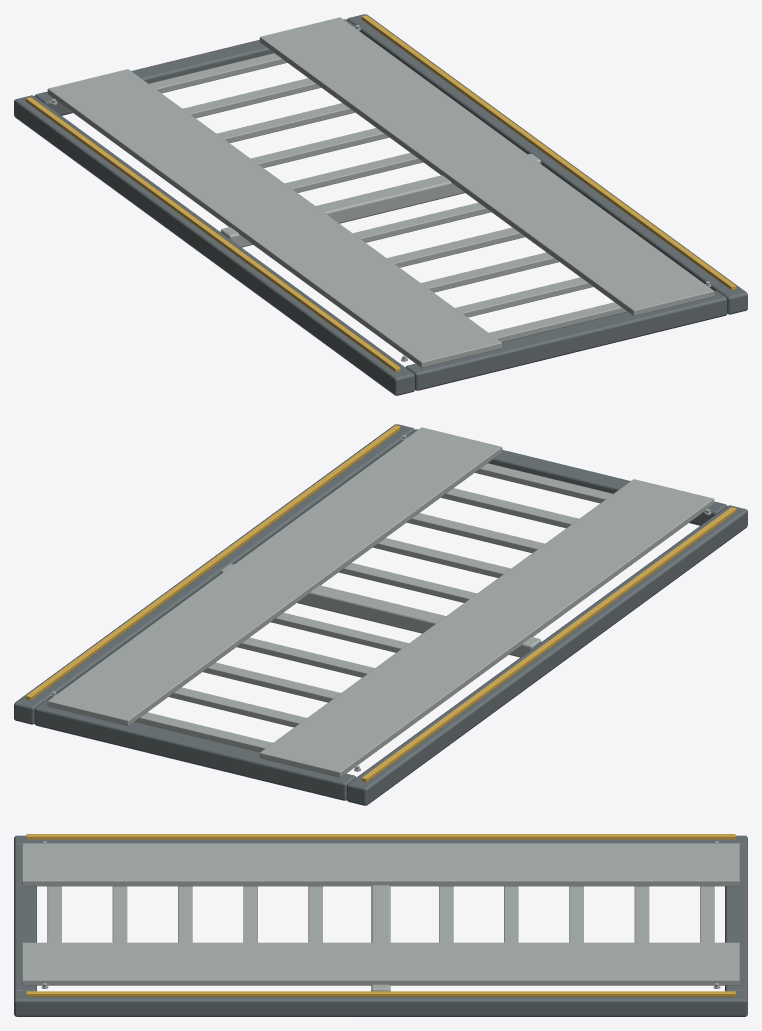
Rendered from automated-parking-and-vehicle-retrieval-automated-park-1273bdc6__30354.glb.
3 renders of one model, top to bottom at view 1: azimuth 30°, elevation 25°; view 2: azimuth 150°, elevation 25°; view 3: azimuth 270°, elevation 25°, orthographic. The views are drawn at different scales.
Visible parts, largest first — view 1: automated-parking-and-vehicle-retrieval-vehicle-pallet; view 2: automated-parking-and-vehicle-retrieval-vehicle-pallet; view 3: automated-parking-and-vehicle-retrieval-vehicle-pallet.
Part boxes in pixels (<box>): automated-parking-and-vehicle-retrieval-vehicle-pallet: <box>14,14,747,395</box>; automated-parking-and-vehicle-retrieval-vehicle-pallet: <box>14,424,747,805</box>; automated-parking-and-vehicle-retrieval-vehicle-pallet: <box>14,834,747,1016</box>.
Bounding box in the file's own units: 2.4 × 0.1599 × 4.5.
